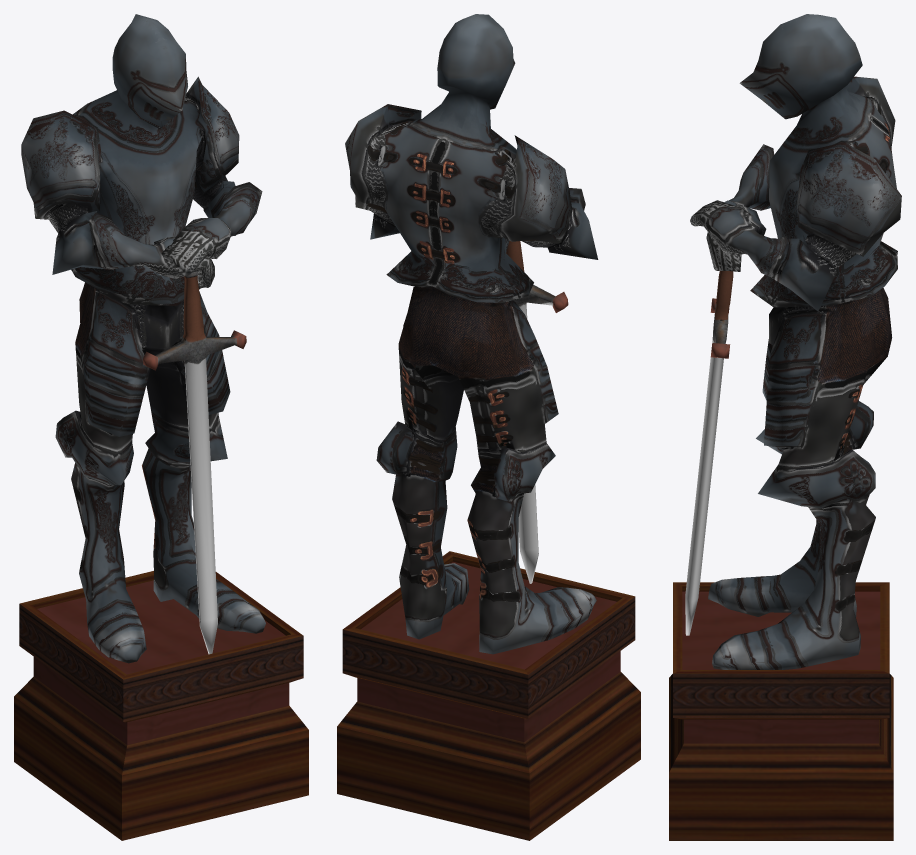
Rendered from Suit of Armor.fbx.
3 views of the same model, side by side, from view 1: azimuth 30°, elevation 25°; view 2: azimuth 150°, elevation 25°; view 3: azimuth 270°, elevation 25° (orthographic). The views are drawn at different scales.
Parts seen in each view (by area): view 1: Knight in armor_LOD0; view 2: Knight in armor_LOD0; view 3: Knight in armor_LOD0.
Part boxes in pixels (x1=…): Knight in armor_LOD0: x1=14, y1=14, x2=308, y2=840; Knight in armor_LOD0: x1=337, y1=14, x2=640, y2=840; Knight in armor_LOD0: x1=669, y1=14, x2=901, y2=840.
Size of what is drawn, in the model's own units: 71.43 by 246 by 66.46.
